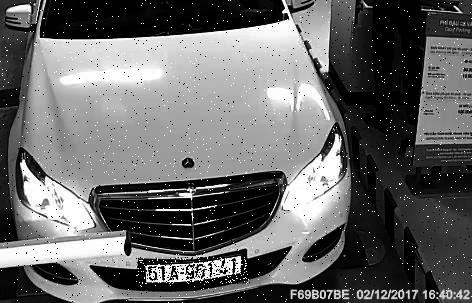License-plate: (137, 258, 249, 285)
